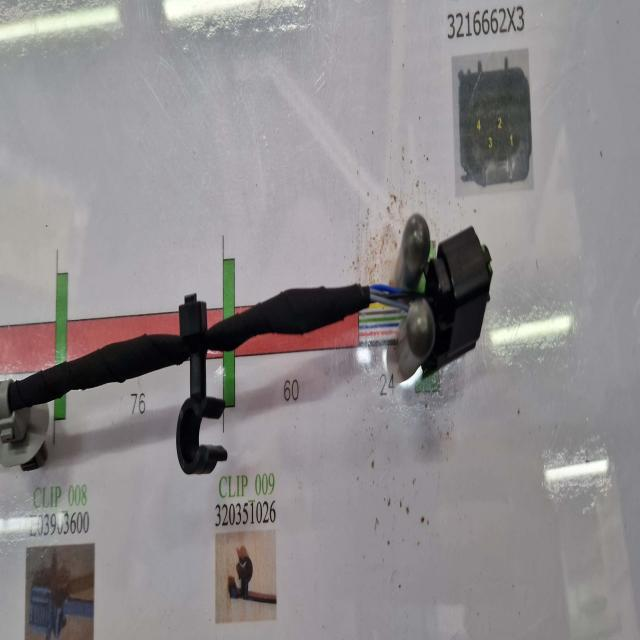Clip: (176, 293, 228, 475), (0, 380, 49, 470)
Connector: (422, 225, 491, 375)
Gape: (358, 248, 432, 343)
MHEV_N11_Cable: (9, 334, 190, 410), (205, 285, 370, 350)
